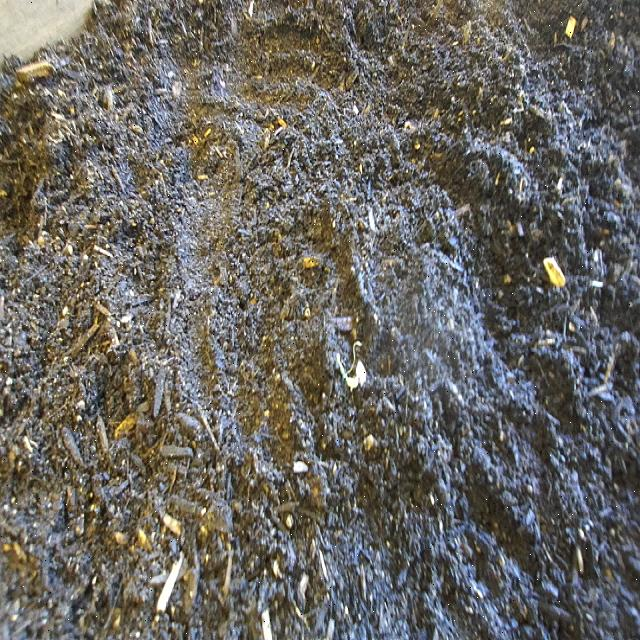Unhealthy: (328, 322, 374, 403)
